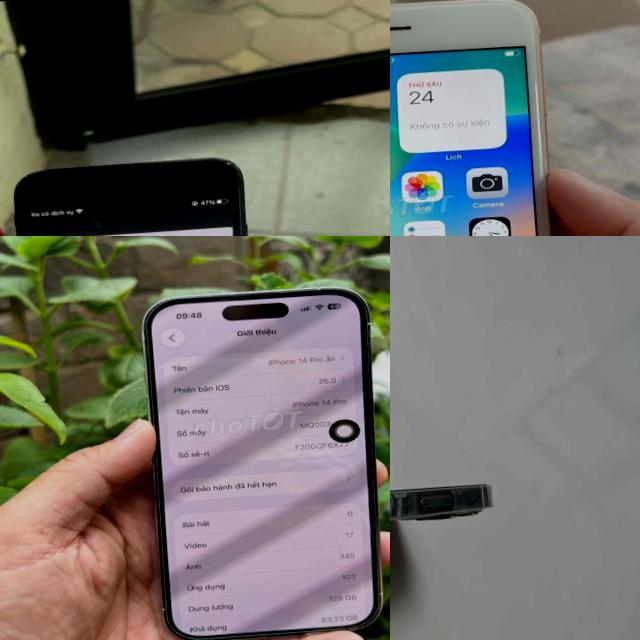scratch: (390, 468, 503, 535), (526, 72, 556, 183), (5, 166, 100, 183), (208, 153, 244, 177)
